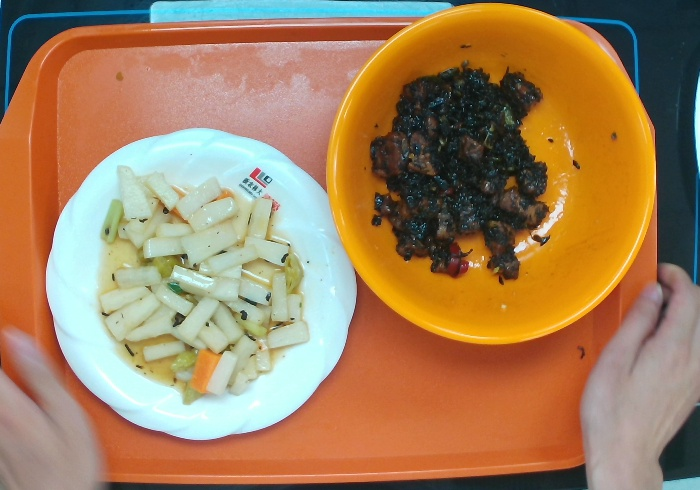ZNLD-Hua_Bian_Wan: (41, 124, 361, 448)
ZNLD-Ju_Se_Tang_Wan: (321, 1, 660, 350)
